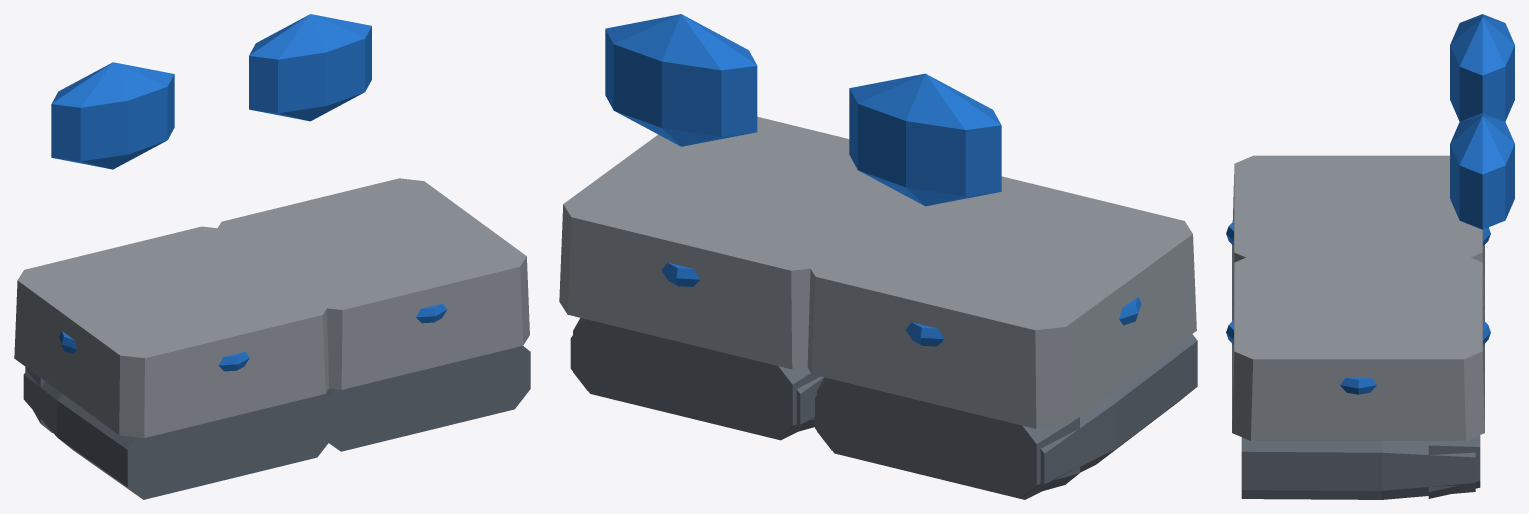
File: shoes_healer_s5.fbx
The picture shows the model from 3 angles, left to right: view 1: azimuth 30°, elevation 25°; view 2: azimuth 150°, elevation 25°; view 3: azimuth 270°, elevation 25°; orthographic projection. The views are drawn at different scales.
Visible parts, largest first — view 1: Greave_L_Body, Greave_R_Body, Boot_L_Inner, Boot_R_Inner, Greave_L_Band, Greave_R_Band; view 2: Greave_L_Body, Greave_R_Body, Boot_L_Inner, Boot_R_Inner, Greave_L_Band, Greave_R_Band; view 3: Greave_R_Body, Greave_L_Body, Boot_R_Inner, Greave_R_Band, Greave_L_Band.
Part boxes in pixels (x1,y1,x2,y2): Greave_L_Body: (14, 226, 329, 437); Greave_R_Body: (218, 178, 529, 389); Boot_L_Inner: (23, 367, 332, 499); Boot_R_Inner: (325, 346, 530, 451); Greave_L_Band: (51, 62, 249, 371); Greave_R_Band: (249, 14, 447, 323); Greave_L_Body: (807, 176, 1196, 428); Greave_R_Body: (559, 116, 913, 369); Boot_L_Inner: (815, 334, 1197, 499); Boot_R_Inner: (570, 318, 824, 440); Greave_L_Band: (849, 73, 1141, 346); Greave_R_Band: (605, 14, 757, 286); Greave_R_Body: (1232, 254, 1484, 440); Greave_L_Body: (1232, 155, 1484, 320); Boot_R_Inner: (1241, 435, 1480, 499); Greave_R_Band: (1226, 113, 1514, 394); Greave_L_Band: (1226, 14, 1514, 245).
Size of the model in its own units: 213 by 160 by 123.
